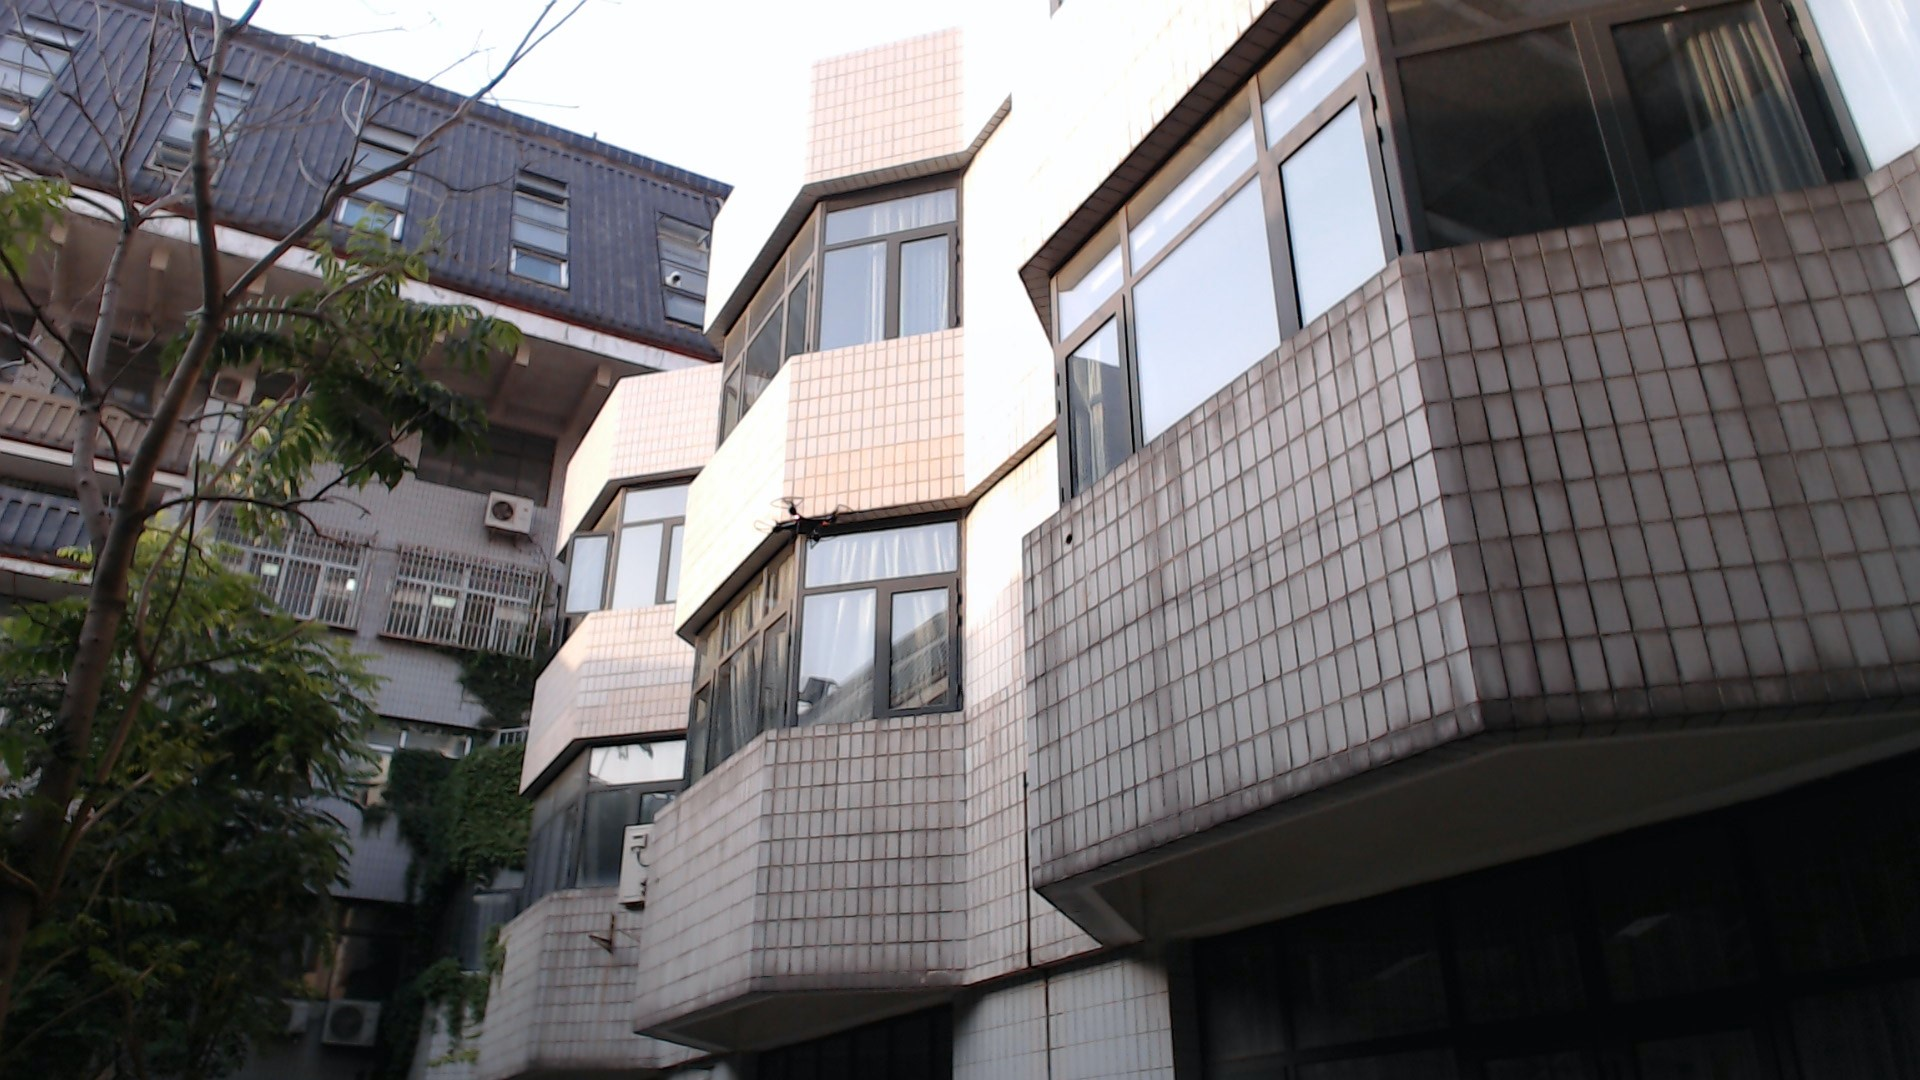drone: (740, 473, 880, 567)
